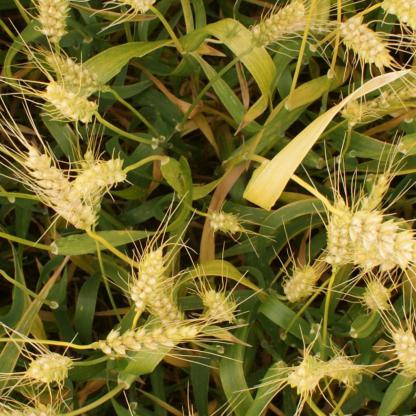whd: (22, 143, 99, 234), (97, 322, 202, 360), (139, 273, 190, 339), (244, 1, 310, 50), (338, 13, 394, 70), (351, 211, 416, 260), (66, 152, 128, 202), (41, 48, 104, 97), (127, 244, 171, 312), (41, 80, 99, 126), (21, 350, 75, 388), (78, 142, 102, 218), (282, 353, 325, 395), (357, 86, 416, 116), (388, 324, 416, 382), (34, 1, 72, 43), (317, 355, 369, 384), (199, 287, 239, 324), (351, 174, 388, 214), (376, 0, 416, 36), (326, 196, 346, 267), (281, 264, 319, 301), (205, 209, 247, 239), (351, 245, 390, 270), (359, 279, 391, 309), (0, 400, 58, 415), (340, 95, 366, 126), (114, 0, 154, 14)
